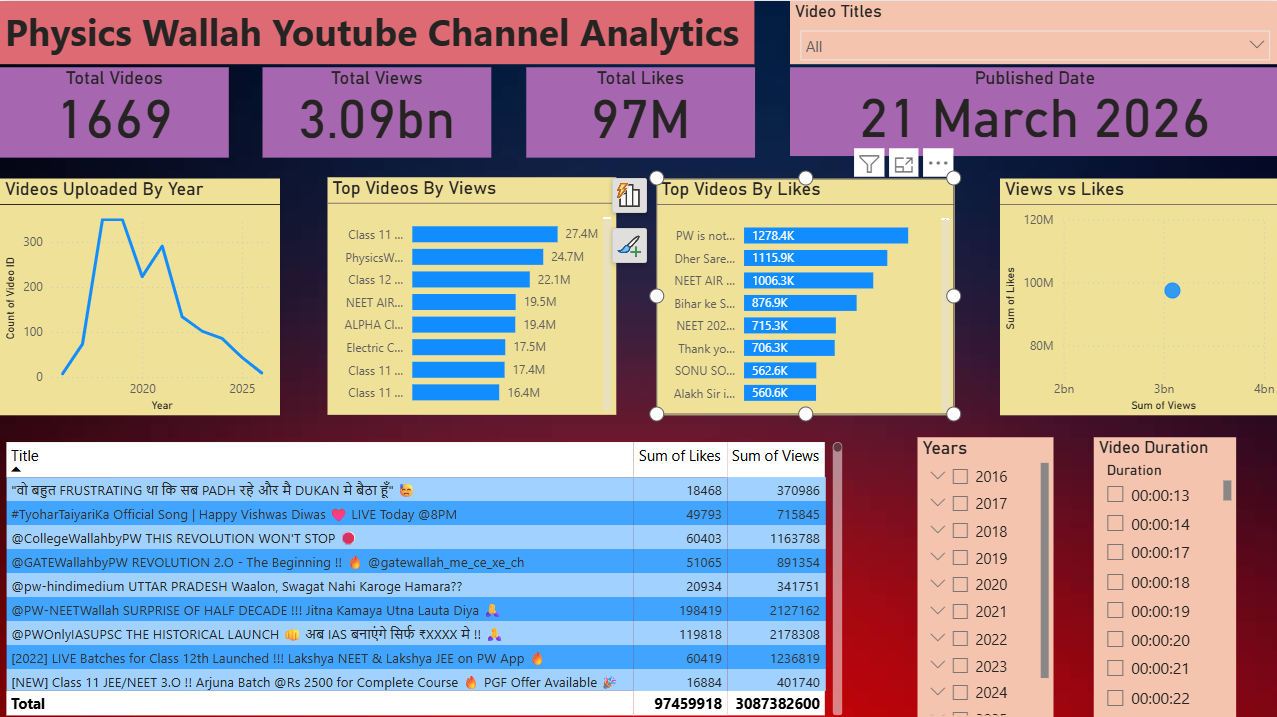

Layout of this report page (visuals, bound fields, positions):
{"tool":"powerbi","page":{"name":"Page 1","canvas":[1280,720],"ordinal":0},"visuals":[{"type":"slicer","title":"Years","fields":{"Values":["pw_stats.Published Date.Variation.Date Hierarchy.Year","pw_stats.Published Date.Variation.Date Hierarchy.Month"]},"box":[918,436.4,135.8,284],"z":0},{"type":"slicer","title":"Video Titles","fields":{"Values":["pw_stats.Title"]},"box":[790,0,490,62.9],"z":1000},{"type":"slicer","title":"Video Duration","fields":{"Values":["pw_stats.Duration"]},"box":[1093.7,436.4,142.7,284],"z":2000},{"type":"card","title":"Total Videos","fields":{"Values":["CountNonNull(pw_stats.Video ID)"]},"box":[0,65.7,228.6,90],"z":3000},{"type":"card","title":"Total Views","fields":{"Values":["Sum(pw_stats.Views)"]},"box":[262.9,65.7,228.6,90],"z":4000},{"type":"card","title":"Total Likes","fields":{"Values":["Sum(pw_stats.Likes)"]},"box":[525.7,65.7,228.6,90],"z":5000},{"type":"card","title":"Published Date","fields":{"Values":["Max(pw_stats.Published Date)"]},"box":[790.4,65.9,489.9,89.2],"z":6000},{"type":"lineChart","title":"Videos Uploaded By Year","fields":{"Category":["pw_stats.Published Date.Variation.Date Hierarchy.Year","pw_stats.Published Date.Variation.Date Hierarchy.Month"],"Y":["CountNonNull(pw_stats.Video ID)"]},"box":[0,177.1,280,237.1],"z":7000},{"type":"clusteredBarChart","title":"Top Videos By Views","fields":{"Category":["pw_stats.Title"],"Y":["Sum(pw_stats.Views)"]},"box":[327.4,176.7,288.9,238],"z":8000},{"type":"clusteredBarChart","title":"Top Videos By Likes","fields":{"Category":["pw_stats.Title"],"Y":["Sum(pw_stats.Likes)"]},"box":[655.7,177.1,298.6,237.1],"z":9000},{"type":"scatterChart","title":"Views vs Likes","fields":{"X":["Sum(pw_stats.Views)"],"Y":["Sum(pw_stats.Likes)"]},"box":[1000,177.1,280,237.1],"z":10000},{"type":"tableEx","title":"Detailed View","fields":{"Values":["pw_stats.Title","Sum(pw_stats.Likes)","Sum(pw_stats.Views)"]},"box":[0,435.7,847.1,284.3],"z":11000},{"type":"textbox","box":[0,0,754.3,62.9],"z":12000}]}

Visuals, with their boxes in screenshot pixels (x1, y1, x2, y2), scaled from the page's 1280x720 canvas onto the 1277x717 screenshot:
"Years" slicer: (x1=916, y1=435, x2=1051, y2=716)
"Video Titles" slicer: (x1=788, y1=0, x2=1276, y2=63)
"Video Duration" slicer: (x1=1091, y1=435, x2=1234, y2=716)
"Total Videos" card: (x1=0, y1=65, x2=228, y2=155)
"Total Views" card: (x1=262, y1=65, x2=490, y2=155)
"Total Likes" card: (x1=524, y1=65, x2=753, y2=155)
"Published Date" card: (x1=789, y1=66, x2=1276, y2=154)
"Videos Uploaded By Year" lineChart: (x1=0, y1=176, x2=279, y2=412)
"Top Videos By Views" clusteredBarChart: (x1=327, y1=176, x2=615, y2=413)
"Top Videos By Likes" clusteredBarChart: (x1=654, y1=176, x2=952, y2=412)
"Views vs Likes" scatterChart: (x1=998, y1=176, x2=1276, y2=412)
"Detailed View" tableEx: (x1=0, y1=434, x2=845, y2=716)
textbox: (x1=0, y1=0, x2=753, y2=63)
